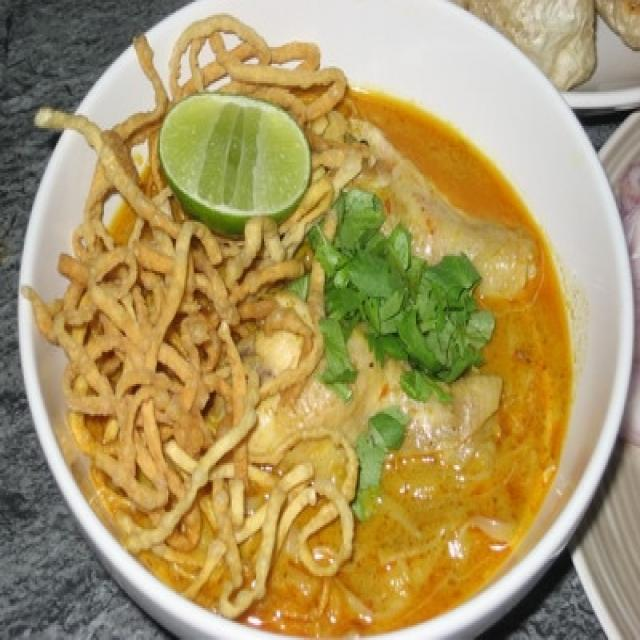面条主食: (19, 11, 624, 625)
